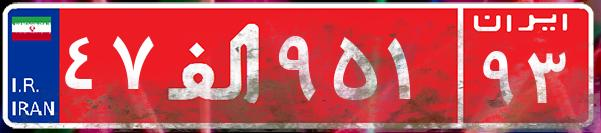1: (385, 28, 445, 110)
3: (525, 38, 570, 115)
4: (57, 26, 110, 107)
5: (330, 28, 385, 110)
7: (110, 28, 158, 105)
9: (273, 28, 330, 110), (475, 38, 525, 113)
الف: (158, 15, 273, 115)
